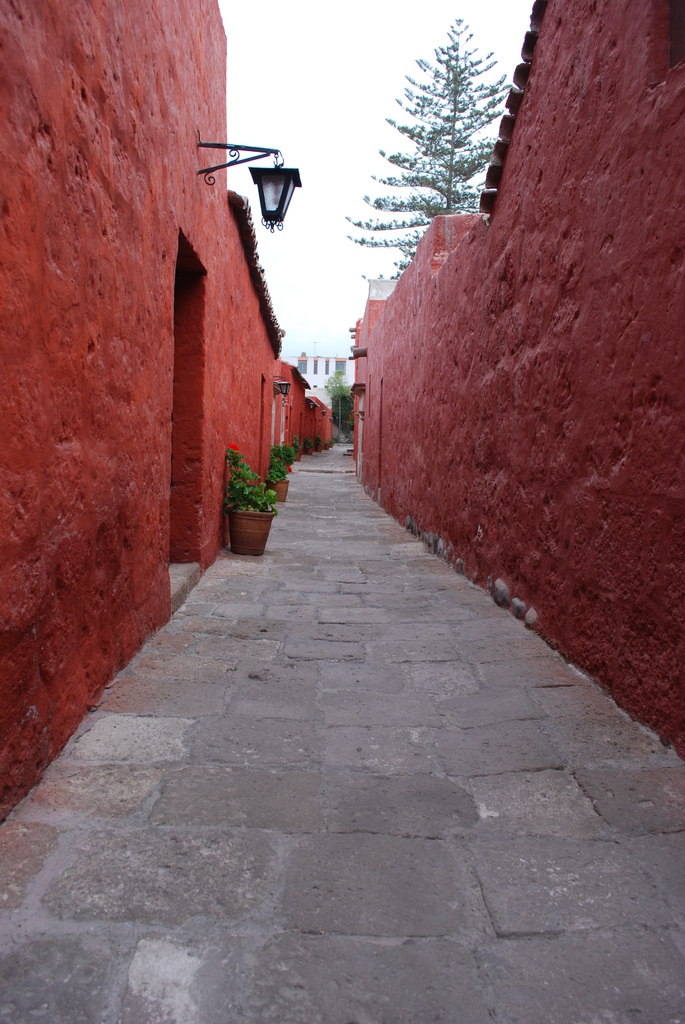Tree: (346, 11, 513, 286), (327, 370, 356, 429)
